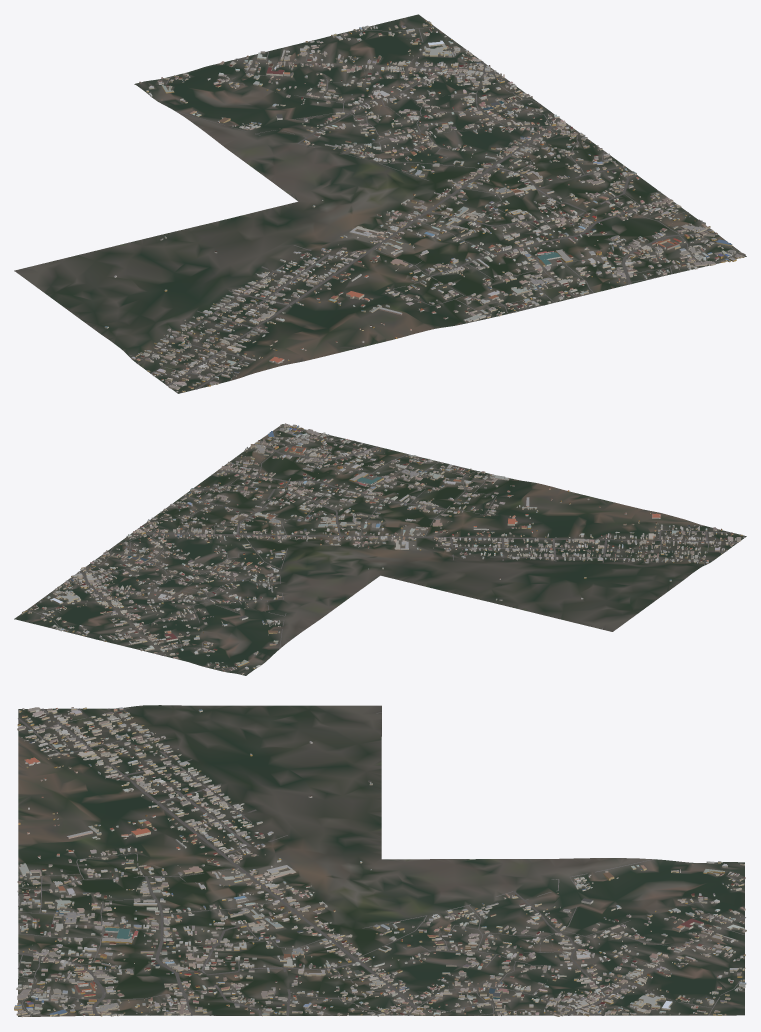
3 renders of one model, top to bottom at view 1: azimuth 30°, elevation 25°; view 2: azimuth 150°, elevation 25°; view 3: azimuth 270°, elevation 25°, orthographic. The views are drawn at different scales.
Visible parts, largest first — view 1: ground, buildings, roads; view 2: ground, buildings, roads; view 3: ground, buildings, roads.
Part boxes in pixels (box(x1,y1,x2,y2)): ground: box(14, 14, 746, 393); buildings: box(104, 20, 745, 392); roads: box(26, 26, 738, 389); ground: box(14, 424, 746, 675); buildings: box(21, 423, 744, 674); roads: box(27, 427, 738, 669); ground: box(18, 705, 744, 1016); buildings: box(14, 707, 746, 1017); roads: box(18, 708, 745, 1016).
Size of the model in its own units: 2813 by 30 by 2825.
